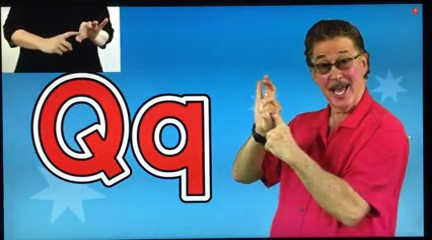Q: (249, 69, 302, 169)
